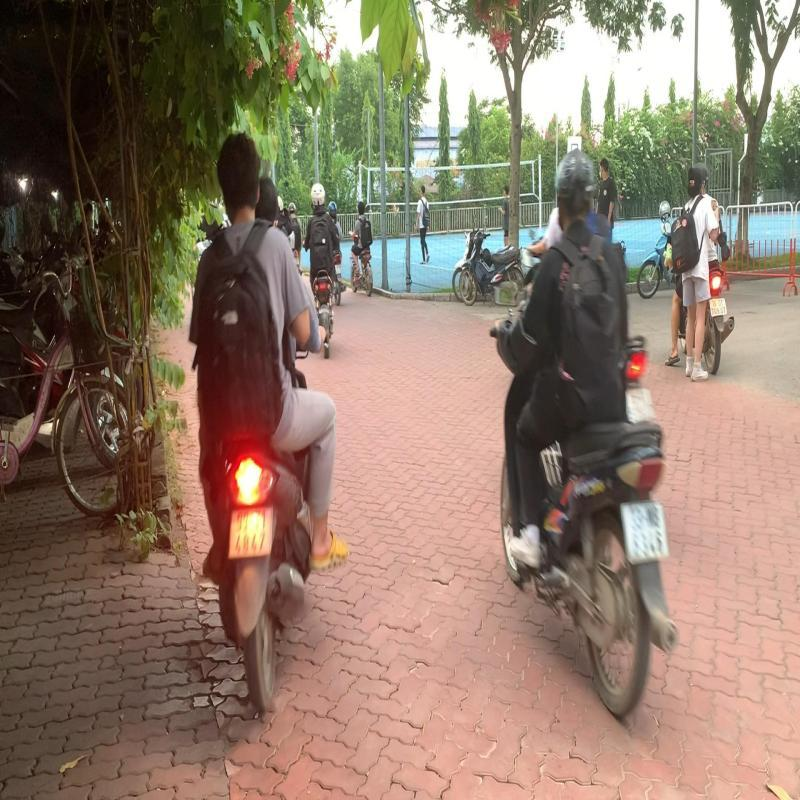nohelmet: (215, 127, 264, 212)
